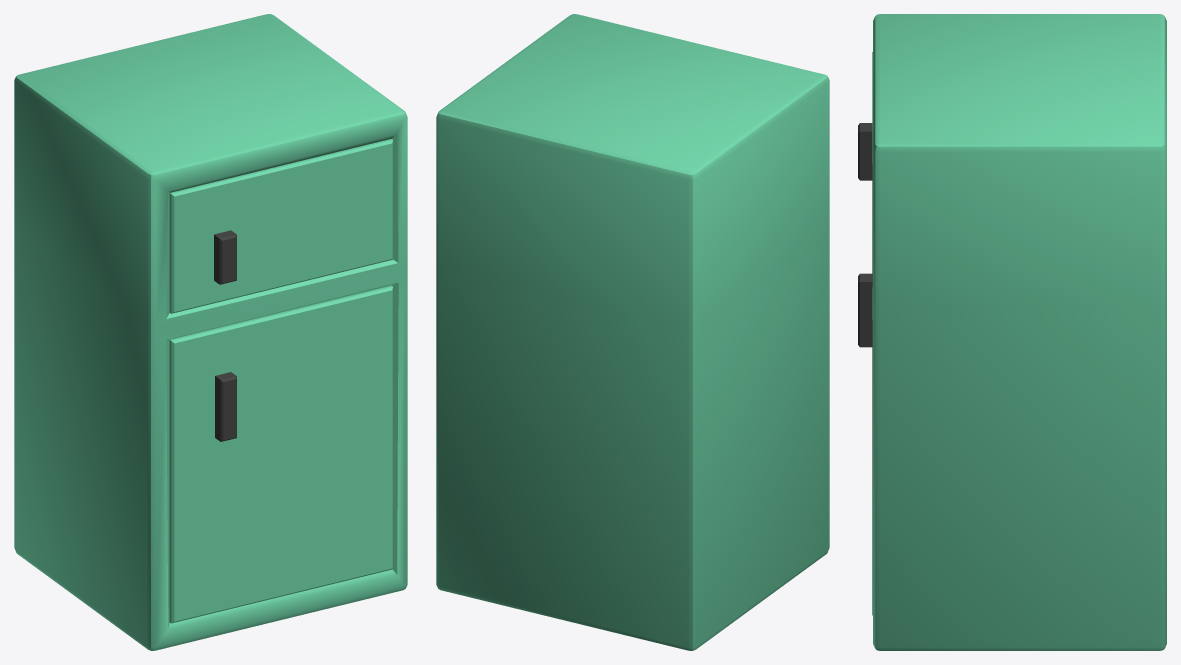
Rendered from Asset006_Geladeira.fbx.
The picture shows the model from 3 angles, left to right: view 1: azimuth 30°, elevation 25°; view 2: azimuth 150°, elevation 25°; view 3: azimuth 270°, elevation 25°; orthographic projection. The views are drawn at different scales.
Visible parts, largest first — view 1: Corpo, Portinha_Principal, Portinha_Freezer; view 2: Corpo; view 3: Corpo, Portinha_Principal, Portinha_Freezer.
Boxes of the visible parts, x1,y1,x2,y2 form: Corpo: [14, 14, 407, 650]; Portinha_Principal: [169, 285, 392, 623]; Portinha_Freezer: [169, 139, 392, 313]; Corpo: [436, 14, 829, 650]; Corpo: [873, 14, 1166, 650]; Portinha_Principal: [858, 273, 872, 615]; Portinha_Freezer: [858, 52, 872, 287].
Size of the model in its own units: 97.5 by 172 by 94.59.
